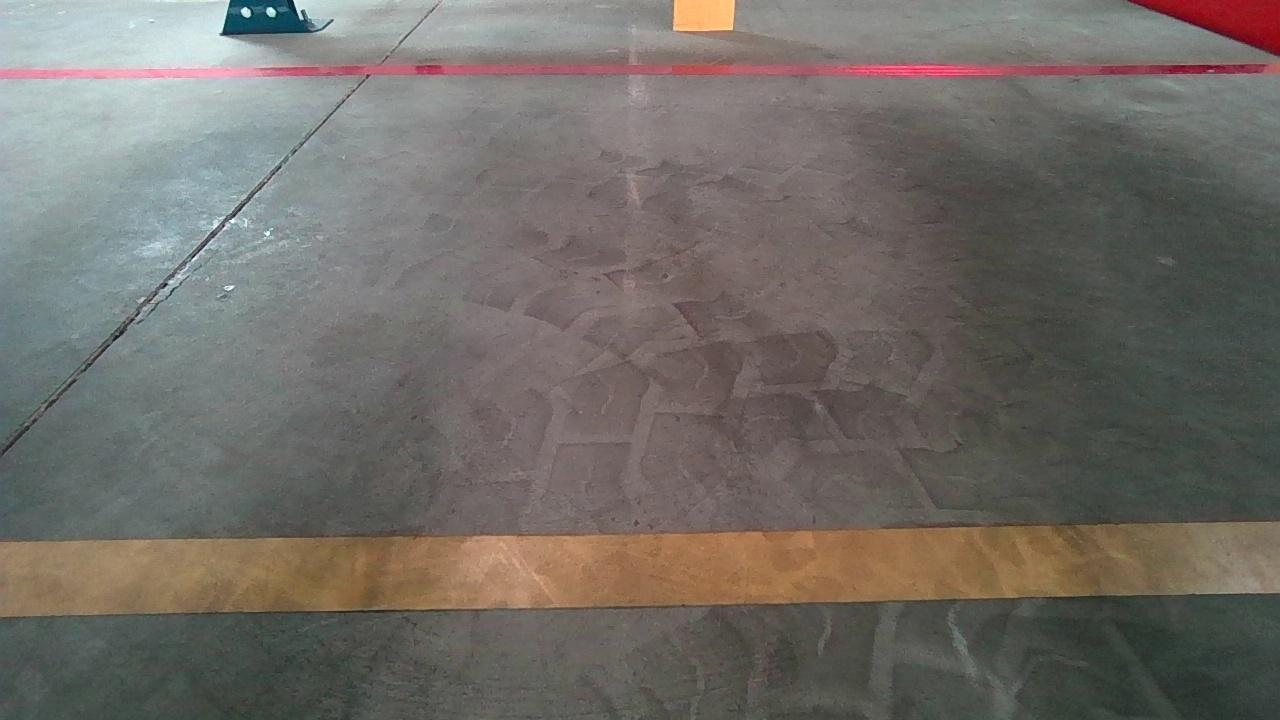orange_strip: (672, 0, 736, 32)
red_line: (24, 60, 1265, 87)
yellow_line: (6, 519, 1267, 619)
